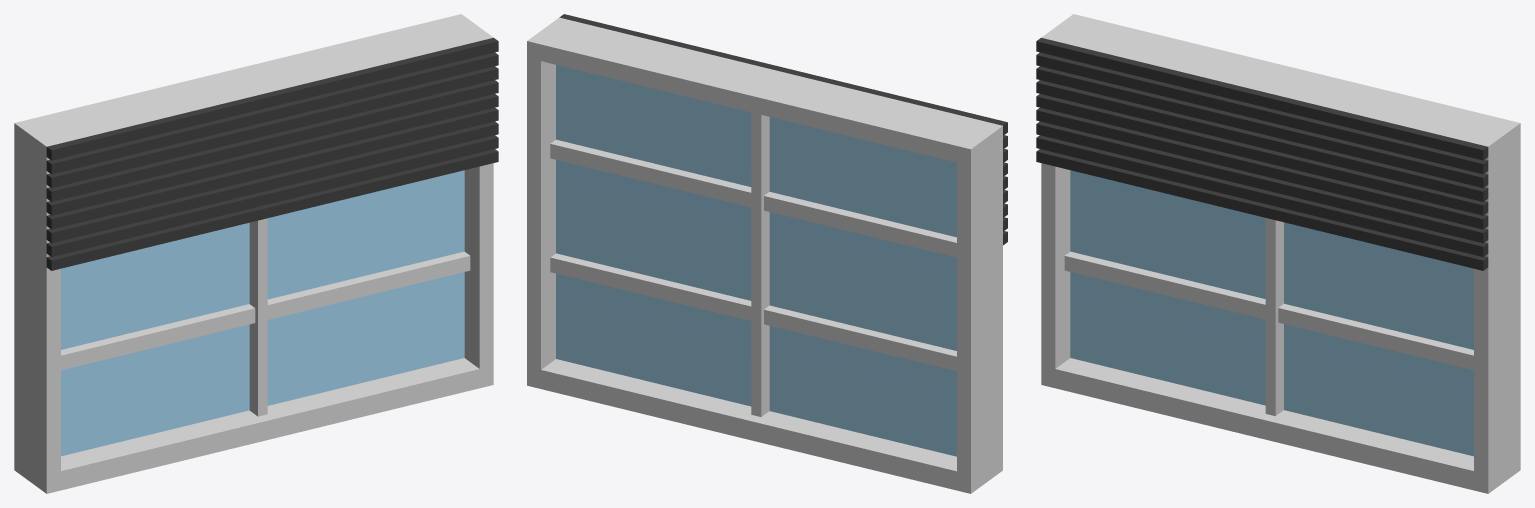
Rendered from window_010.fbx.
The picture shows the model from 3 angles, left to right: view 1: azimuth 30°, elevation 25°; view 2: azimuth 150°, elevation 25°; view 3: azimuth 330°, elevation 25°; orthographic projection.
Visible parts, largest first — view 1: window_010; view 2: window_010; view 3: window_010.
Part boxes in pixels (box(x1,y1,x2,y2)): window_010: box(14, 14, 498, 493); window_010: box(527, 14, 1007, 493); window_010: box(1036, 14, 1520, 493).
Bounding box in the file's own units: 225 × 32.52 × 167.
